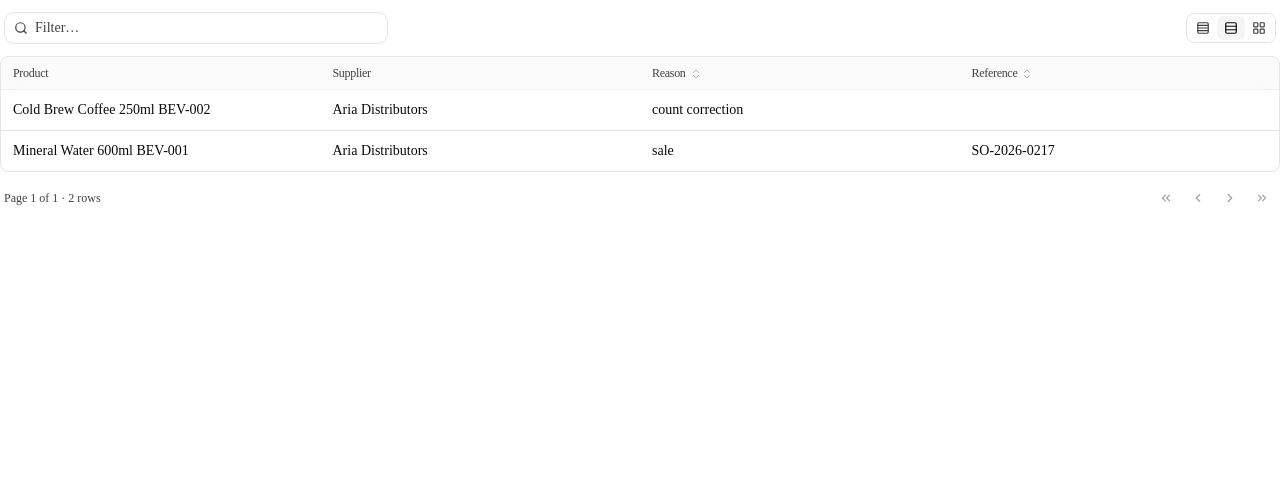
Scenario: DataTable empty states tell the two causes apart › clearing the filter brings every row back
Type "zzzzz" into the field named "filter table" at (196, 28), box [4,12,388,44]
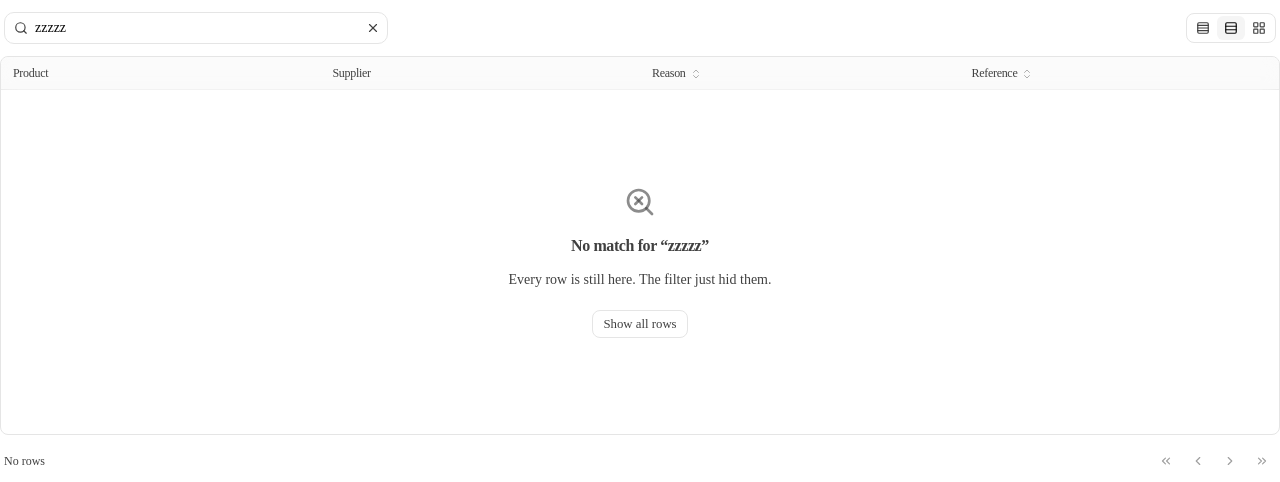
Click the button "Show all rows" at (640, 324), box [592,310,688,338]
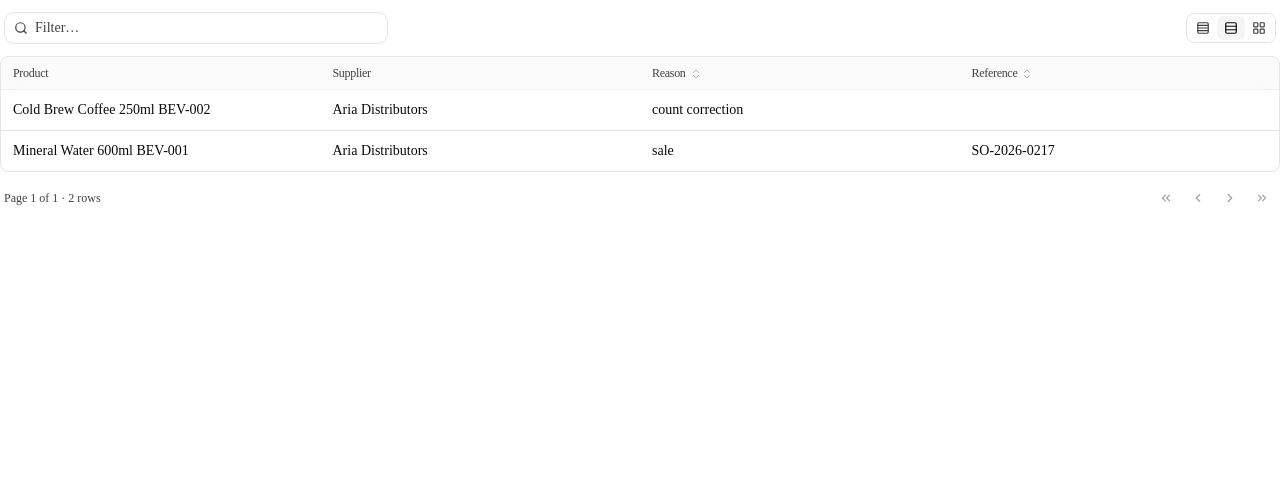
Check: the text "Cold Brew Coffee 250ml BEV-002" is shown, box [13,102,211,117]
Check: the text "Mineral Water 600ml BEV-001" is shown, box [13,143,189,158]
Check: the heading "No match for" is gone
